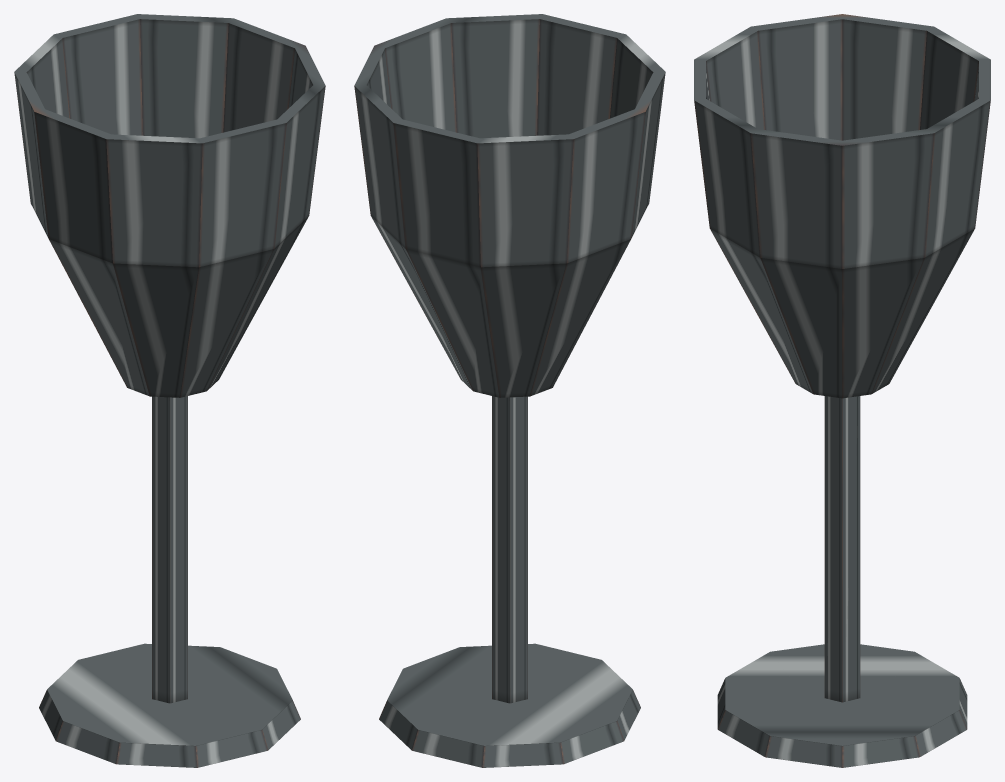
Rendered from Furn_Wine_Glass.fbx.
3 renders of one model, left to right at view 1: azimuth 30°, elevation 25°; view 2: azimuth 150°, elevation 25°; view 3: azimuth 270°, elevation 25°, orthographic.
Parts seen in each view (by area): view 1: Furn_Wine_Glass; view 2: Furn_Wine_Glass; view 3: Furn_Wine_Glass.
Part boxes in pixels (x1,y1,x2,y2): Furn_Wine_Glass: (14, 14, 325, 767); Furn_Wine_Glass: (354, 14, 665, 767); Furn_Wine_Glass: (694, 14, 990, 767).
Bounding box in the file's own units: 7.6 × 17 × 7.23.
